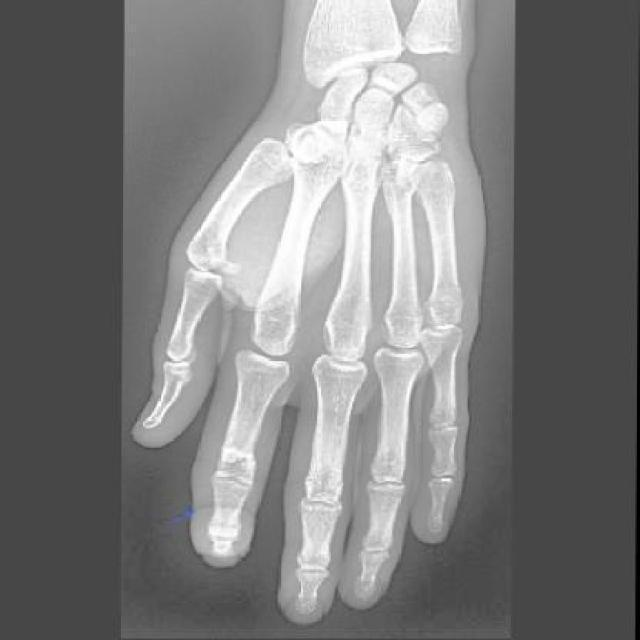Fracture: (214, 449, 260, 480)
